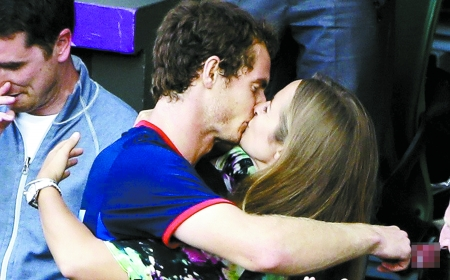face_mask: (193, 48, 271, 142), (236, 85, 312, 156), (0, 30, 53, 109)
